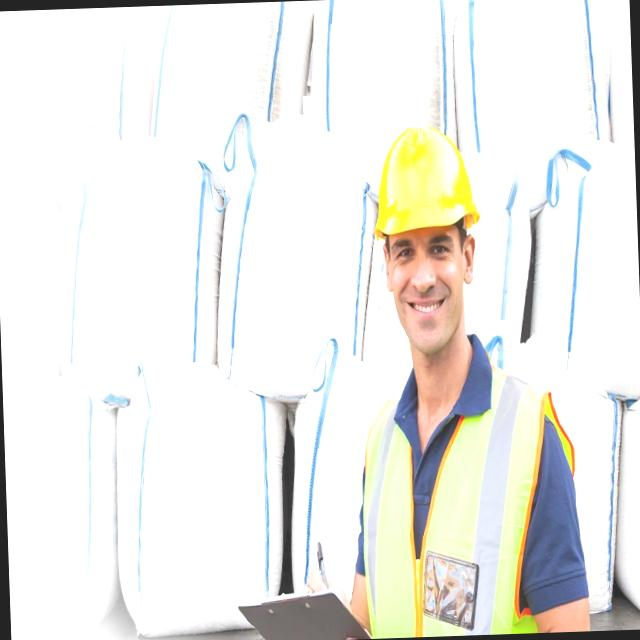helmet: (364, 118, 480, 242)
no-goggles: (386, 219, 456, 278)
vest: (356, 362, 590, 639)
